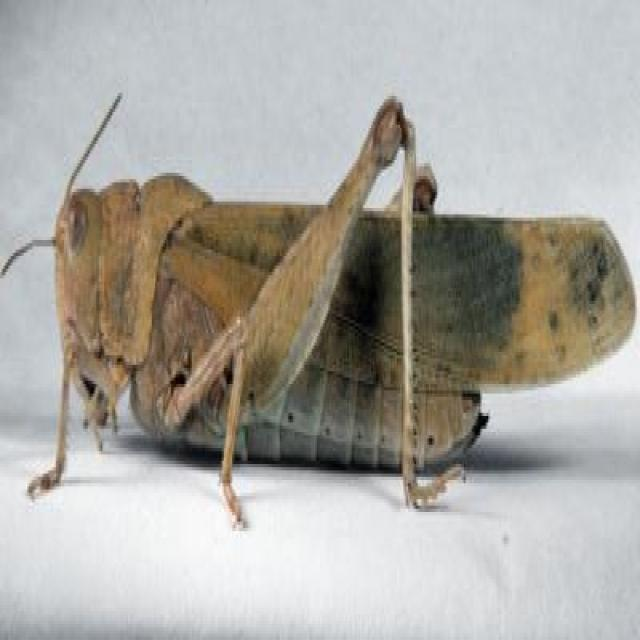antennae: (65, 95, 123, 199), (0, 234, 58, 278)
body: (57, 188, 486, 469)
insect: (0, 77, 640, 549)
legs: (205, 91, 452, 508), (25, 313, 126, 504), (163, 318, 248, 534)
mouthpart: (77, 361, 116, 430)
wings: (168, 201, 639, 388)
